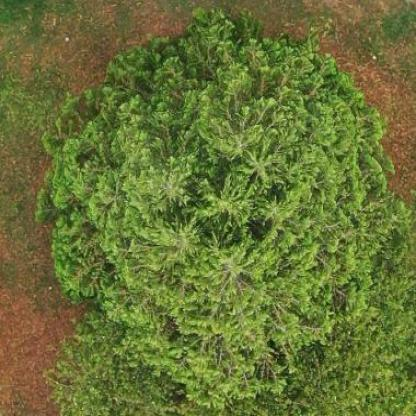Coniferous Tree: (35, 33, 414, 402)
